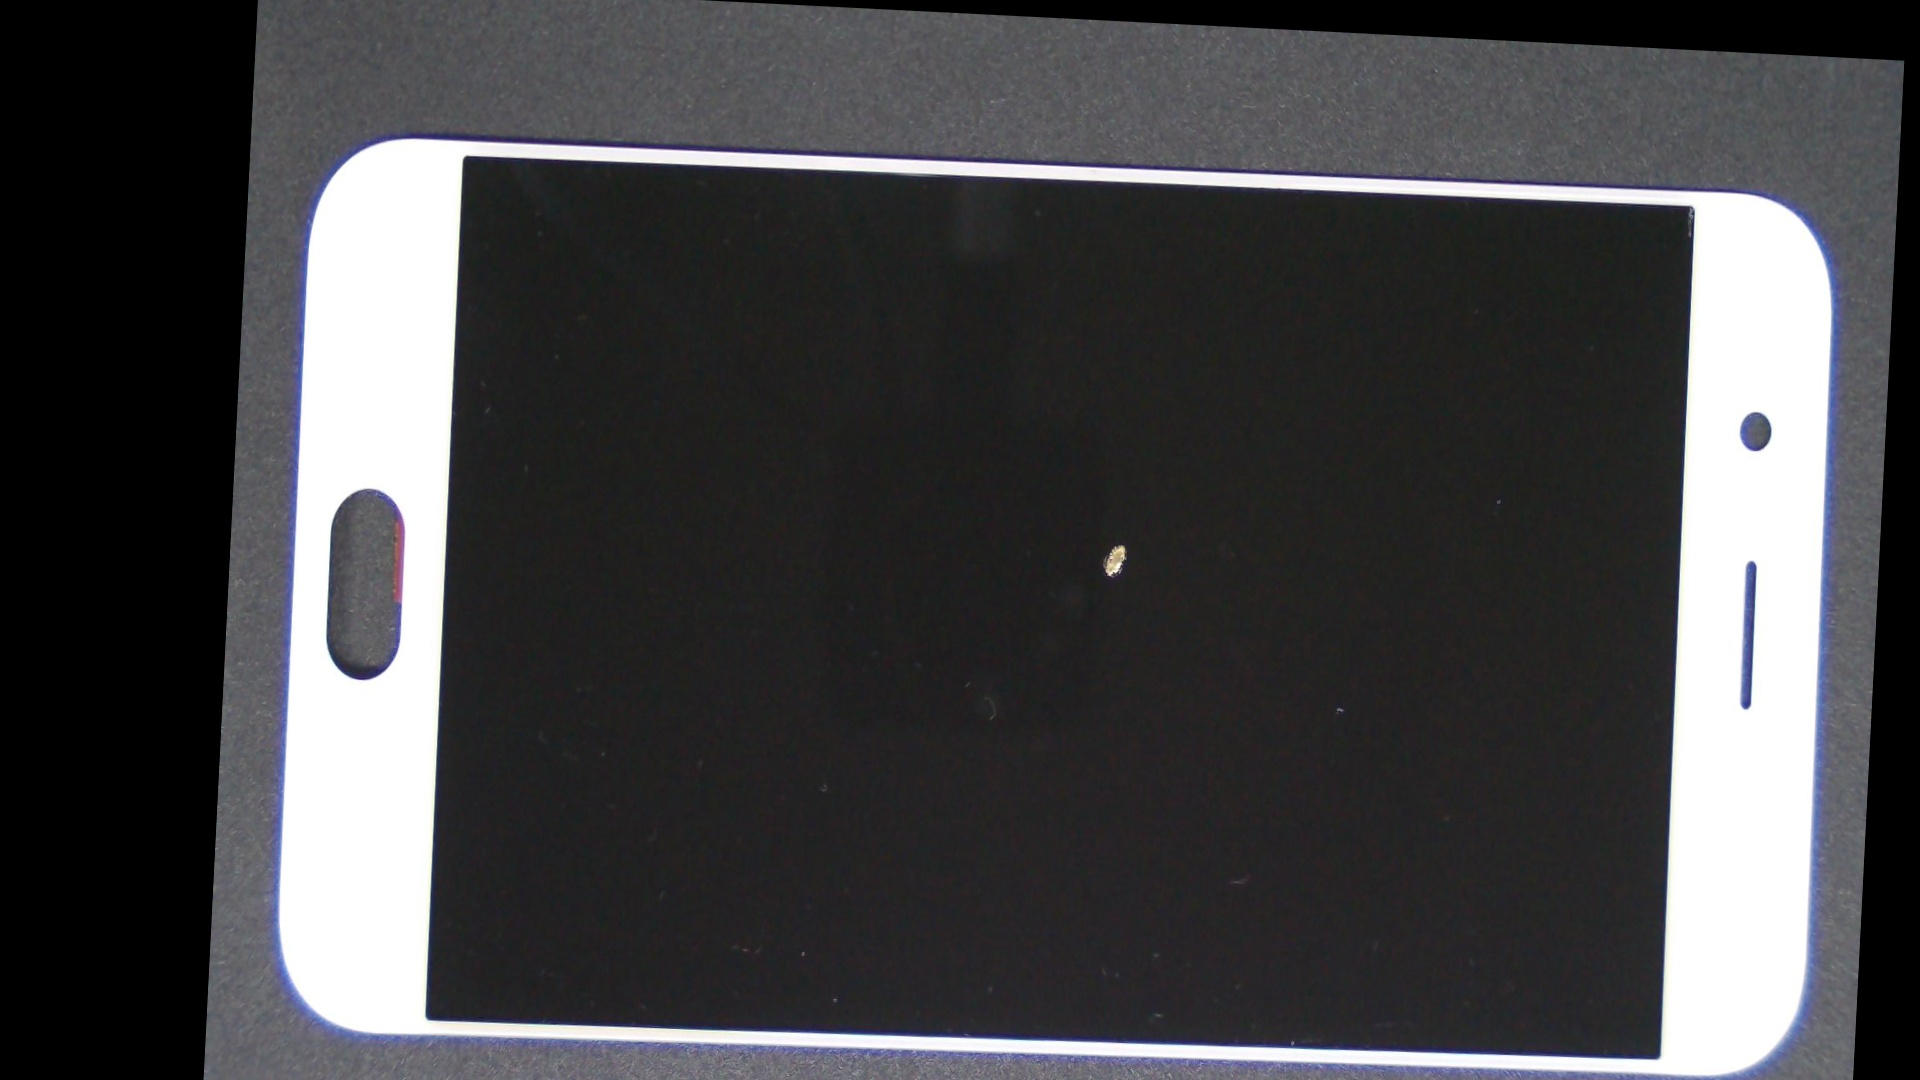oil: (662, 260, 1572, 825)
